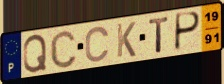C: (49, 29, 78, 70), (84, 25, 111, 64)
K: (116, 20, 137, 59)
P: (173, 11, 202, 53)
Q: (22, 33, 48, 75)
T: (148, 15, 171, 55)
